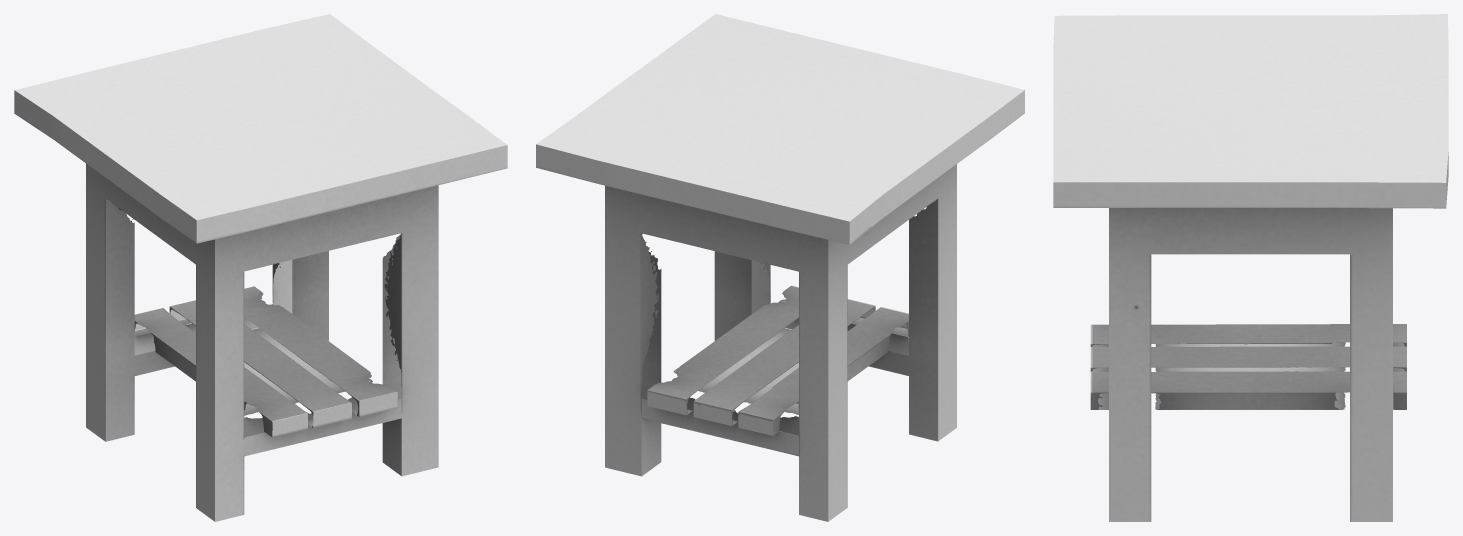
Rendered from stool.fbx.
3 views of the same model, side by side, from view 1: azimuth 30°, elevation 25°; view 2: azimuth 150°, elevation 25°; view 3: azimuth 270°, elevation 25° (orthographic). The views are drawn at different scales.
Visible parts, largest first — view 1: stool; view 2: stool; view 3: stool.
Part boxes in pixels (x1,y1,x2,y2): stool: (14, 14, 507, 521); stool: (536, 14, 1024, 521); stool: (1053, 14, 1448, 521).
Bounding box in the file's own units: 0.7041 × 0.7061 × 0.6966.
